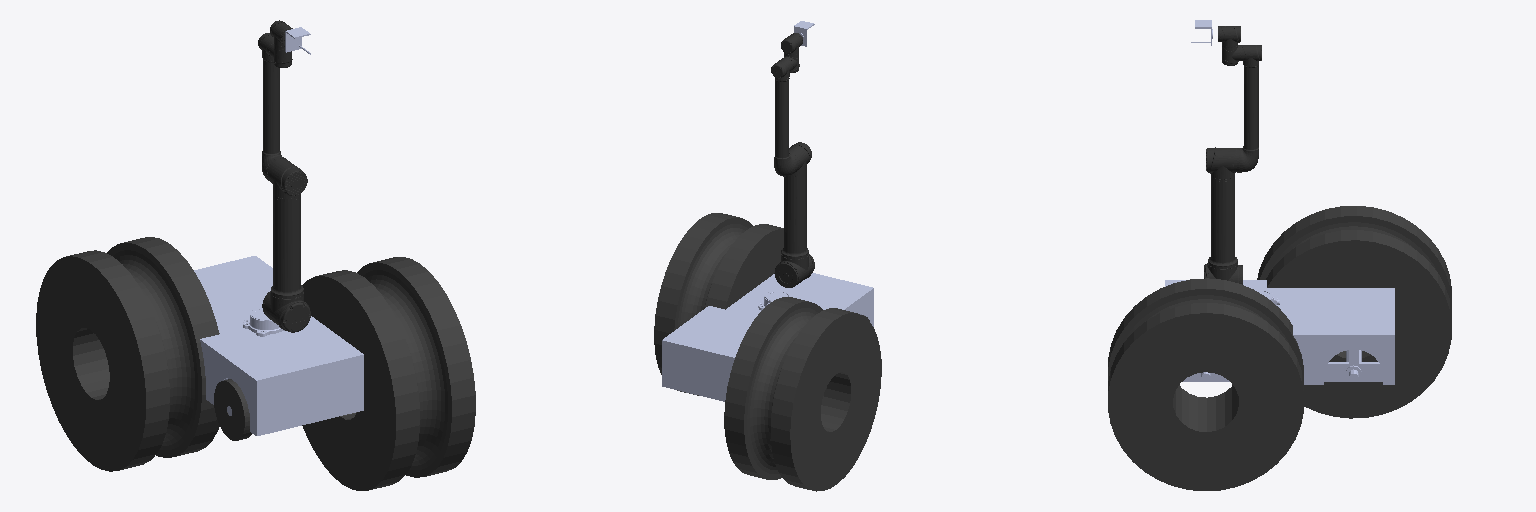
robot.urdf — robot:
<?xml version='1.0' encoding='utf-8'?>
<robot name="robot">
  <link name="base_link">
    <inertial> 
      <origin rpy="0 0 0" xyz="-7.22287839337554E-05 -0.00215295361631975 0.324863596005363" />
      <mass value="165.61036422321" />
      <inertia ixx="32.965361421801" ixy="-4.58943188877295E-10" ixz="-2.30197800542194E-10" iyy="12.6332666224088" iyz="-0.000847797837113684" izz="42.003560166963" />
    </inertial>
    <visual>
      <origin rpy="0 0 0" xyz="0 0 0" />
      <geometry>
        <mesh filename="package://robot_description/meshes/base_link.STL" />
      </geometry>
      <material name="">
        <color rgba="0.792156862745098 0.819607843137255 0.933333333333333 1" />
      </material>
    </visual>
    <collision>
      <origin rpy="0 0 0" xyz="0 0 0" />
      <geometry>
        <mesh filename="package://robot_description/meshes/base_link.STL" />
      </geometry>
    </collision>
  </link>
  <link name="wl1">
    <inertial>
      <origin rpy="0 0 0" xyz="0.0290880456704233 0 0" />
      <mass value="5.35162830148466" />
      <inertia ixx="0.0785771556064541" ixy="2.06571371557815E-35" ixz="5.7477857248605E-35" iyy="0.040993158685314" iyz="3.00703442581003E-34" izz="0.040993158685314" />
    </inertial>
    <visual>
      <origin rpy="0 0 0" xyz="0 0 0" />
      <geometry>
        <mesh filename="package://robot_description/meshes/wl1.STL" />
      </geometry>
      <material name="">
        <color rgba="0.3 0.3 0.3 1" />
      </material>
    </visual>
    <collision>
      <origin rpy="0 0 0" xyz="0 0 0" />
      <geometry>
        <mesh filename="package://robot_description/meshes/wl1.STL" />
      </geometry>
    </collision>
  </link>
  <joint name="wl1" type="continuous">
    <origin xyz="-0.425 0.45 0.169" rpy="0 0 0" />
    <parent link="base_link" />
    <child link="wl1" />
    <axis xyz="-1 0 0" />
  </joint>
  <link name="wr1">
    <inertial>
      <origin rpy="0 0 0" xyz="-0.0290880456704234 0 0" />
      <mass value="5.35162830148466" />
      <inertia ixx="0.0785771556064541" ixy="-4.77943611846627E-35" ixz="5.7477857248605E-35" iyy="0.040993158685314" iyz="-3.00703442581003E-34" izz="0.040993158685314" />
    </inertial>
    <visual>
      <origin rpy="0 0 0" xyz="0 0 0" />
      <geometry>
        <mesh filename="package://robot_description/meshes/wr1.STL" />
      </geometry>
      <material name="">
        <color rgba="0.3 0.3 0.3 1" />
      </material>
    </visual>
    <collision>
      <origin rpy="0 0 0" xyz="0 0 0" />
      <geometry>
        <mesh filename="package://robot_description/meshes/wr1.STL" />
      </geometry>
    </collision>
  </link>
  <joint name="wr1" type="continuous">
    <origin xyz="0.425 0.45 0.169" rpy="0 0 0" />
    <parent link="base_link" />
    <child link="wr1" />
    <axis xyz="-1 0 0" />
  </joint>
  <link name="wl2">
    <inertial>
      <origin rpy="0 0 0" xyz="0.0290880456704233 5.55111512312578E-17 0" />
      <mass value="5.35162830148466" />
      <inertia ixx="0.0785771556064541" ixy="2.06571371557815E-35" ixz="5.7477857248605E-35" iyy="0.040993158685314" iyz="3.00703442581003E-34" izz="0.040993158685314" />
    </inertial>
    <visual>
      <origin rpy="0 0 0" xyz="0 0 0" />
      <geometry>
        <mesh filename="package://robot_description/meshes/wl2.STL" />
      </geometry>
      <material name="">
        <color rgba="0.3 0.3 0.3 1" />
      </material>
    </visual>
    <collision>
      <origin rpy="0 0 0" xyz="0 0 0" />
      <geometry>
        <mesh filename="package://robot_description/meshes/wl2.STL" />
      </geometry>
    </collision>
  </link>
  <joint name="wl2" type="continuous">
    <origin xyz="-0.425 -0.45 0.169" rpy="0 0 0" />
    <parent link="base_link" />
    <child link="wl2" />
    <axis xyz="-1 0 0" />
  </joint>
  <link name="wr2">
    <inertial>
      <origin rpy="0 0 0" xyz="-0.0290880456704234 5.55111512312578E-17 0" />
      <mass value="5.35162830148466" />
      <inertia ixx="0.0785771556064541" ixy="-4.77943611846627E-35" ixz="5.7477857248605E-35" iyy="0.040993158685314" iyz="-3.00703442581003E-34" izz="0.040993158685314" />
    </inertial>
    <visual>
      <origin rpy="0 0 0" xyz="0 0 0" />
      <geometry>
        <mesh filename="package://robot_description/meshes/wr2.STL" />
      </geometry>
      <material name="">
        <color rgba="0.3 0.3 0.3 1" />
      </material>
    </visual>
    <collision>
      <origin rpy="0 0 0" xyz="0 0 0" />
      <geometry>
        <mesh filename="package://robot_description/meshes/wr2.STL" />
      </geometry>
    </collision>
  </link>
  <joint name="wr2" type="continuous">
    <origin xyz="0.425 -0.45 0.169" rpy="0 0 0" />
    <parent link="base_link" />
    <child link="wr2" />
    <axis xyz="-1 0 0" />
  </joint>
  <link name="link1">
    <inertial>
      <origin rpy="0 0 0" xyz="-0.00794920674955624 -1.78415172156048E-05 0.0962050288057547" />
      <mass value="6.3997963235939" />
      <inertia ixx="0.0386968105399522" ixy="3.18422119967618E-06" ixz="0.000278068450970961" iyy="0.0403824669357166" iyz="1.29129590060104E-05" izz="0.0302124483192918" />
    </inertial>
    <visual>
      <origin rpy="0 0 0" xyz="0 0 0" />
      <geometry>
        <mesh filename="package://robot_description/meshes/link1.STL" />
      </geometry>
      <material name="">
        <color rgba="0.250980392156863 0.250980392156863 0.250980392156863 1" />
      </material>
    </visual>
    <collision>
      <origin rpy="0 0 0" xyz="0 0 0" />
      <geometry>
        <mesh filename="package://robot_description/meshes/link1.STL" />
      </geometry>
    </collision>
  </link>
  <joint name="j1" type="revolute">
    <origin xyz="-0.005 -0.126 0.536" rpy="0 0 1.5708" />
    <parent link="base_link" />
    
    <child link="link1" />
    <axis xyz="0 0 1" />
    <limit effort="87" lower="-6.283185" upper="6.283185" velocity="1.62" />
  </joint>
  <link name="link2">
    <inertial>
      <origin rpy="0 0 0" xyz="-0.356587738253141 -5.20041231720329E-06 0.0932252364057431" />
      <mass value="22.2940088807678" />
      <inertia ixx="0.0974900452024959" ixy="3.08604301056751E-06" ixz="0.000327194536900443" iyy="0.455754558388555" iyz="1.35730362482013E-05" izz="0.434619057566455" />
    </inertial>
    <visual>
      <origin rpy="0 0 0" xyz="0 0 0" />
      <geometry>
        <mesh filename="package://robot_description/meshes/link2.STL" />
      </geometry>
      <material name="">
        <color rgba="0.250980392156863 0.250980392156863 0.250980392156863 1" />
      </material>
    </visual>
    <collision>
      <origin rpy="0 0 0" xyz="0 0 0" />
      <geometry>
        <mesh filename="package://robot_description/meshes/link2.STL" />
      </geometry>
    </collision>
  </link>
  <joint name="j2" type="revolute">
    <origin xyz="-0.126 0 0.094" rpy="3.14159265358979 1.5707963267949 0" />
    <parent link="link1" />
    <child link="link2" />
    <axis xyz="0 0 1" />
    <limit effort="87" lower="-6.283185" upper="6.283185" velocity="3.10" />
  </joint>
  <link name="link3">
    <inertial>
      <origin rpy="0 0 0" xyz="-0.348727151721816 0.000170002642110669 0.0825873081787098" />
      <mass value="6.4895258475879" />
      <inertia ixx="0.0096756766183381" ixy="-0.00026633857380855" ixz="0.00703002672413942" iyy="0.258252972810647" iyz="1.22132940178923E-05" izz="0.257392693068882" />
    </inertial>
    <visual>
      <origin rpy="0 0 0" xyz="0 0 0" />
      <geometry>
        <mesh filename="package://robot_description/meshes/link3.STL" />
      </geometry>
      <material name="">
        <color rgba="0.250980392156863 0.250980392156863 0.250980392156863 1" />
      </material>
    </visual>
    <collision>
      <origin rpy="0 0 0" xyz="0 0 0" />
      <geometry>
        <mesh filename="package://robot_description/meshes/link3.STL" />
      </geometry>
    </collision>
  </link>
  <joint name="j3" type="revolute">
    <origin xyz="-0.803 0 0.011" rpy="3.14159265358979 0 0" />
    <parent link="link2" />
    <child link="link3" />
    <axis xyz="0 0 1" />
    <limit effort="87" lower="-6.283185" upper="6.283185" velocity="3.10" />
  </joint>
  <link name="link4">
    <inertial>
      <origin rpy="0 0 0" xyz="-0.00242458280433411 -5.44321046245903E-07 0.0661378515123138" />
      <mass value="1.17082580161785" />
      <inertia ixx="0.00159368211297859" ixy="3.14179162607069E-08" ixz="2.49063735370219E-05" iyy="0.00261811685549299" iyz="-1.56654011954233E-08" izz="0.00252852694287355" />
    </inertial>
    <visual>
      <origin rpy="0 0 0" xyz="0 0 0" />
      <geometry>
        <mesh filename="package://robot_description/meshes/link4.STL" />
      </geometry>
      <material name="">
        <color rgba="0.250980392156863 0.250980392156863 0.250980392156863 1" />
      </material>
    </visual>
    <collision>
      <origin rpy="0 0 0" xyz="0 0 0" />
      <geometry>
        <mesh filename="package://robot_description/meshes/link4.STL" />
      </geometry>
    </collision>
  </link>
  <joint name="j4" type="revolute">
    <origin xyz="-0.72 0 0.0298" rpy="3.1416 0 0" />
    <parent link="link3" />
    <child link="link4" />
    <axis xyz="0 0 -1" />
    <limit effort="87" lower="-6.283185" upper="6.283185" velocity="3.10" />
  </joint>
  <link name="link5">
    <inertial>
      <origin rpy="0 0 0" xyz="0.00242458409241891 5.44635340153643E-07 0.0656378507065249" />
      <mass value="1.17082576064318" />
      <inertia ixx="0.00159368204736647" ixy="3.14422586641897E-08" ixz="-2.49064085094777E-05" iyy="0.00261811675462377" iyz="1.56549712758359E-08" izz="0.00252852684795983" />
    </inertial>
    <visual>
      <origin rpy="0 0 0" xyz="0 0 0" />
      <geometry>
        <mesh filename="package://robot_description/meshes/link5.STL" />
      </geometry>
      <material name="">
        <color rgba="0.250980392156863 0.250980392156863 0.250980392156863 1" />
      </material>
    </visual>
    <collision>
      <origin rpy="0 0 0" xyz="0 0 0" />
      <geometry>
        <mesh filename="package://robot_description/meshes/link5.STL" />
      </geometry>
    </collision>
  </link>
  <joint name="j5" type="revolute">
    <origin xyz="-0.0577 0 0.0698" rpy="0 -1.5708 0" /> 
    <parent link="link4" />
    <child link="link5" />
    <axis xyz="0 0 -1" />
    <limit effort="87" lower="-6.283185" upper="6.283185" velocity="3.10" />
  </joint>
  <link name="link6">
    <inertial>
      <origin rpy="0 0 0" xyz="0.000135655130766299 -8.37139877037096E-09 0.0281910703710159" />
      <mass value="0.166085108652433" />
      <inertia ixx="9.48731067402748E-05" ixy="-5.77777351325843E-11" ixz="4.38703666212798E-07" iyy="9.13908413524008E-05" iyz="2.03433472099079E-13" izz="0.00015901210576961" />
    </inertial>
    <visual>
      <origin rpy="3.14159 0 0" xyz="0 0 0" />
      <geometry>
        <mesh filename="package://robot_description/meshes/link6.STL" />
      </geometry>
      <material name="">
        <color rgba="0.250980392156863 0.250980392156863 0.250980392156863 1" />
      </material>
    </visual>
    <collision>
      <origin rpy="3.14159 0 0" xyz="0 0 0" />
      <geometry>
        <mesh filename="package://robot_description/meshes/link6.STL" />
      </geometry>
    </collision>
  </link>
  <joint name="j6" type="revolute">
    <origin xyz="0.0577 0 0.06955" rpy="0 1.5708 0" />
    <parent link="link5" />
    <child link="link6" />
    <axis xyz="0 0 1" />
    <limit effort="87" lower="-6.283185" upper="6.283185" velocity="1.62" />
  </joint>
  
  <link name="grasp_base_link">
    <inertial>
      
      <origin rpy="0 0 0" xyz="0 0 0" />
      <mass value="0.110137166941154" />
      <inertia ixx="0.000119442941686907" ixy="-2.18819689009832E-21" ixz="1.00533007844443E-20" iyy="0.000201561725123519" iyz="-5.82720918507605E-21" izz="8.42429416869073E-05" />
    </inertial>
    <visual>
      <origin rpy="0 0 0" xyz="0 0 0" />
      <geometry>
        <mesh filename="package://robot_description/meshes/grasp_base_link.STL" />
      </geometry>
      <material name="">
        <color rgba="0.792156862745098 0.819607843137255 0.933333333333333 1" />
      </material>
    </visual>
    <collision>
      <origin rpy="0 0 0" xyz="0 0 0" />
      <geometry>
        <mesh filename="package://robot_description/meshes/grasp_base_link.STL" />
      </geometry>
    </collision>
  </link>
  <link name="ld">
    <inertial>
      <origin rpy="0 0 0" xyz="-8.61561256365606E-19 0.02 0.004" />
      <mass value="0.08" />
      <inertia ixx="6.70933333333333E-05" ixy="2.52899986831941E-20" ixz="-1.69445820945071E-20" iyy="6.70933333333333E-05" iyz="-4.22319333728353E-22" izz="0.000133333333333333" />
    </inertial>
    <visual>
      <origin rpy="0 0 0" xyz="0 0 0" />
      <geometry>
        <mesh filename="package://robot_description/meshes/ld.STL" />
      </geometry>
      <material name="">
        <color rgba="0.792156862745098 0.819607843137255 0.933333333333333 1" />
      </material>
    </visual>
    <collision>
      <origin rpy="0 0 0" xyz="0 0 0" />
      <geometry>
        <mesh filename="package://robot_description/meshes/ld.STL" />
      </geometry>
    </collision>
  </link>
  <joint name="jd" type="fixed">
    <origin rpy="0 0 3.1416" xyz="0 -0.035 -0.068" />
    <parent link="grasp_base_link" />
    <child link="ld" />
    <axis xyz="0 0 0" />
  </joint>
  <link name="lu1">
    <inertial>
      <origin rpy="0 0 0" xyz="0 0 0.06" />
      <mass value="0.00942477796076938" />
      <inertia ixx="1.13686384151781E-05" ixy="-1.99136488891556E-56" ixz="1.19366462190883E-38" iyy="1.13686384151781E-05" iyz="-5.46392484019368E-39" izz="1.17809724509617E-07" />
    </inertial>
    <visual>
      <origin rpy="0 0 0" xyz="0 0 0" />
      <geometry>
        <mesh filename="package://robot_description/meshes/lu1.STL" />
      </geometry>
      <material name="">
        <color rgba="0.792156862745098 0.819607843137255 0.933333333333333 1" />
      </material>
    </visual>
    <collision>
      <origin rpy="0 0 0" xyz="0 0 0" />
      <geometry>
        <mesh filename="package://robot_description/meshes/lu1.STL" />
      </geometry>
    </collision>
  </link>
  <joint name="ju1" type="fixed">
    <origin rpy="1.5708 0 0" xyz="-0.035 -0.013 0.04" />
    <parent link="grasp_base_link" />
    <child link="lu1" />
    <axis xyz="0 0 0" />
  </joint>
  <link name="lu2">
    <inertial>
      <origin rpy="0 0 0" xyz="-6.93889390390723E-18 0 0.06" />
      <mass value="0.00942477796076938" />
      <inertia ixx="1.13686384151781E-05" ixy="-1.99136488891556E-56" ixz="1.19366462190883E-38" iyy="1.13686384151781E-05" iyz="-5.46392484019368E-39" izz="1.17809724509617E-07" />
    </inertial>
    <visual>
      <origin rpy="0 0 0" xyz="0 0 0" />
      <geometry>
        <mesh filename="package://robot_description/meshes/lu2.STL" />
      </geometry>
      <material name="">
        <color rgba="0.792156862745098 0.819607843137255 0.933333333333333 1" />
      </material>
    </visual>
    <collision>
      <origin rpy="0 0 0" xyz="0 0 0" />
      <geometry>
        <mesh filename="package://robot_description/meshes/lu2.STL" />
      </geometry>
    </collision>
  </link>
  <joint name="ju2" type="fixed">
    <origin rpy="1.5708 0 0" xyz="0.035 -0.013 0.04" />
    <parent link="grasp_base_link" />
    <child link="lu2" />
    <axis xyz="0 0 0" />
  </joint>
  <joint name="joint_grasp" type="fixed">
    <parent link="link6" />
    <child link="grasp_base_link" />
    <origin rpy="-1.5708 0 -1.5708" xyz="0 0 0.04877" />
  </joint>

  <joint name="joint_tool0" type="fixed">
    <parent link="grasp_base_link" />
    <child link="tool0" />
    <origin rpy="0 0 0" xyz="0 -0.02 0" />
  </joint>

  <link name="tool0">
  </link>
</robot>

--- What the picture shows (computed from the rendered views, not written in the file) ---
Views: 3 orthographic renders of the robot side by side, from view 1: azimuth 30°, elevation 25°; view 2: azimuth 150°, elevation 25°; view 3: azimuth 270°, elevation 25°.
Robot: robot — 16 links, 15 joints (6 revolute, 4 continuous, 5 fixed); root link base_link; default pose: every joint at zero.
Visible links, largest first — view 1: wl1, wr2, base_link, link2, link3, wl2; view 2: wl1, wr2, base_link, link2, link3; view 3: wr2, wl1, base_link, link2, link3.
Boxes of the visible links, x1,y1,x2,y2 form: wl1: (36, 237, 219, 471); wr2: (302, 257, 475, 490); base_link: (194, 256, 363, 435); link2: (262, 157, 310, 332); link3: (258, 33, 283, 180); wl2: (214, 379, 251, 440); wl1: (724, 297, 881, 491); wr2: (654, 213, 783, 395); base_link: (662, 273, 873, 401); link2: (774, 142, 814, 287); link3: (771, 57, 796, 176); wr2: (1108, 278, 1303, 490); wl1: (1257, 206, 1451, 418); base_link: (1165, 280, 1394, 384); link2: (1204, 147, 1242, 284); link3: (1240, 45, 1261, 172).
Size in the robot's own frame: 1.55 by 2.1 by 2.78 metres.
12 mesh visuals loaded from 15 distinct referenced files (12 binary STL); not drawn: 3 (reference not matched to a file when rendering).
